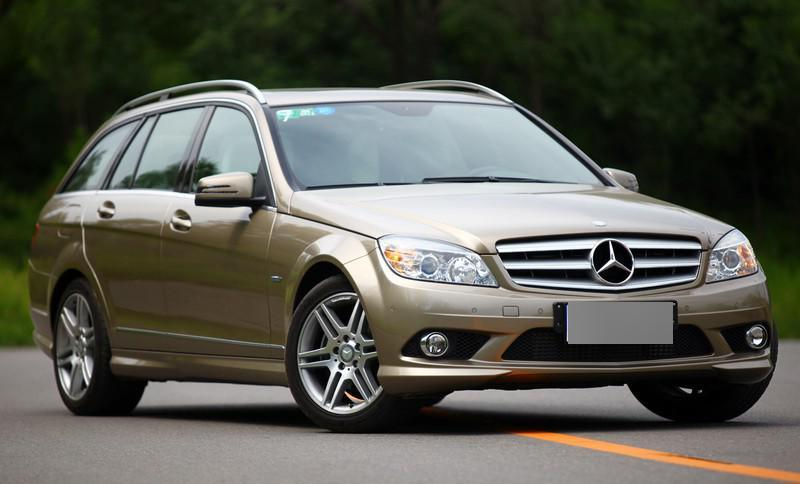Wagon: (27, 78, 780, 432)
